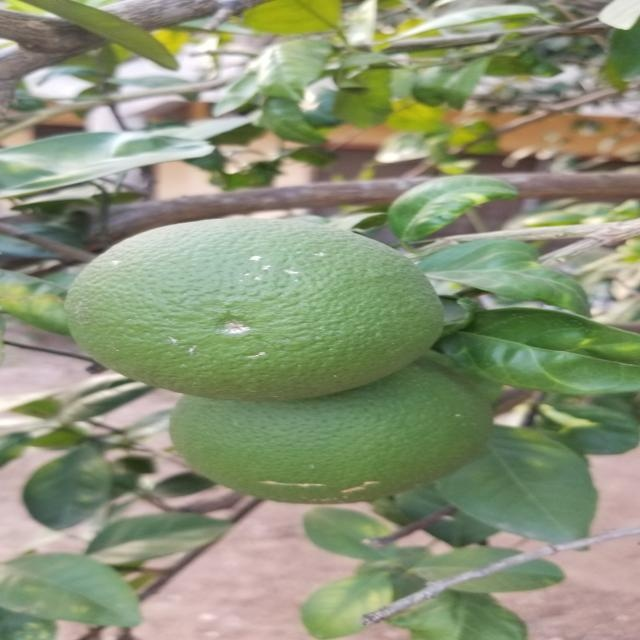agrume: (62, 213, 451, 400), (166, 363, 486, 505)
